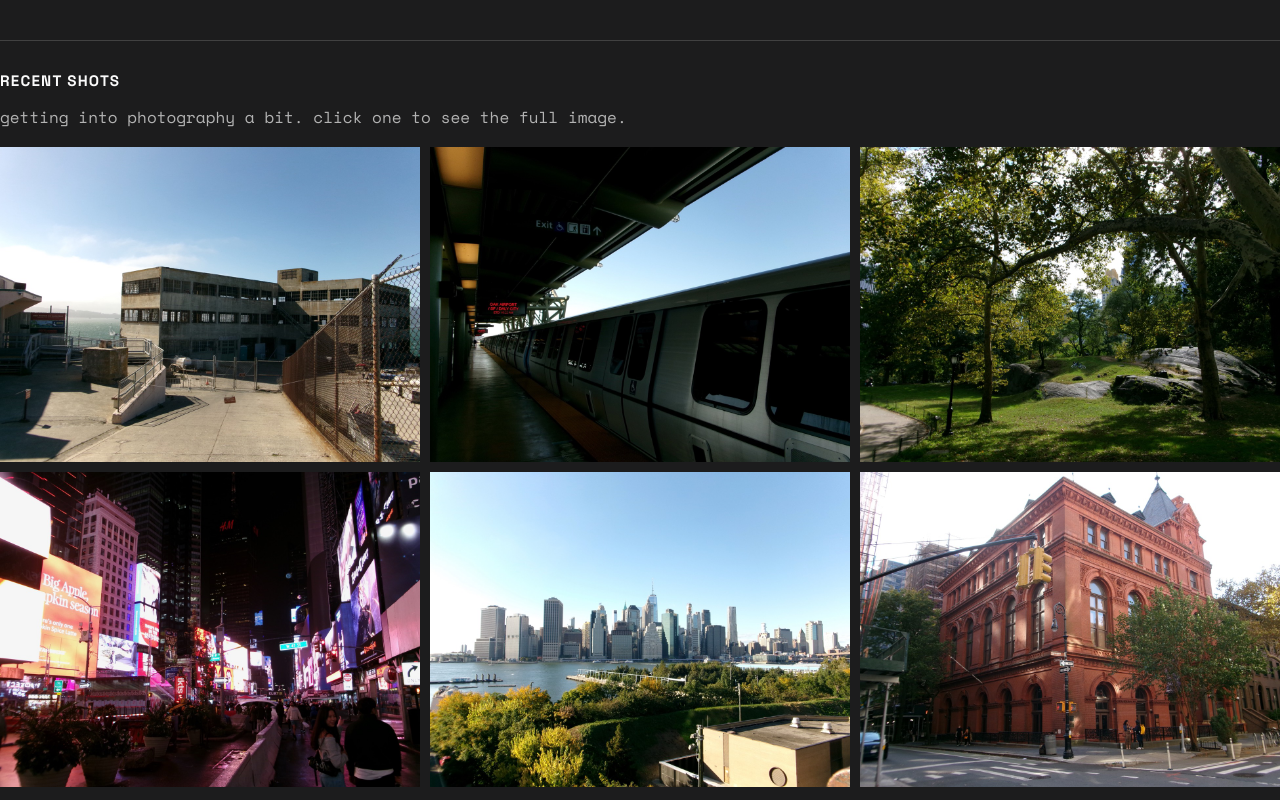
it: Photos › shows a location-only caption and closes from the x
Step 1. Click the 1st button named "An abandoned concrete building behind a chain-link fence on Alcatraz Island" → (210, 304), box [0, 147, 420, 462]
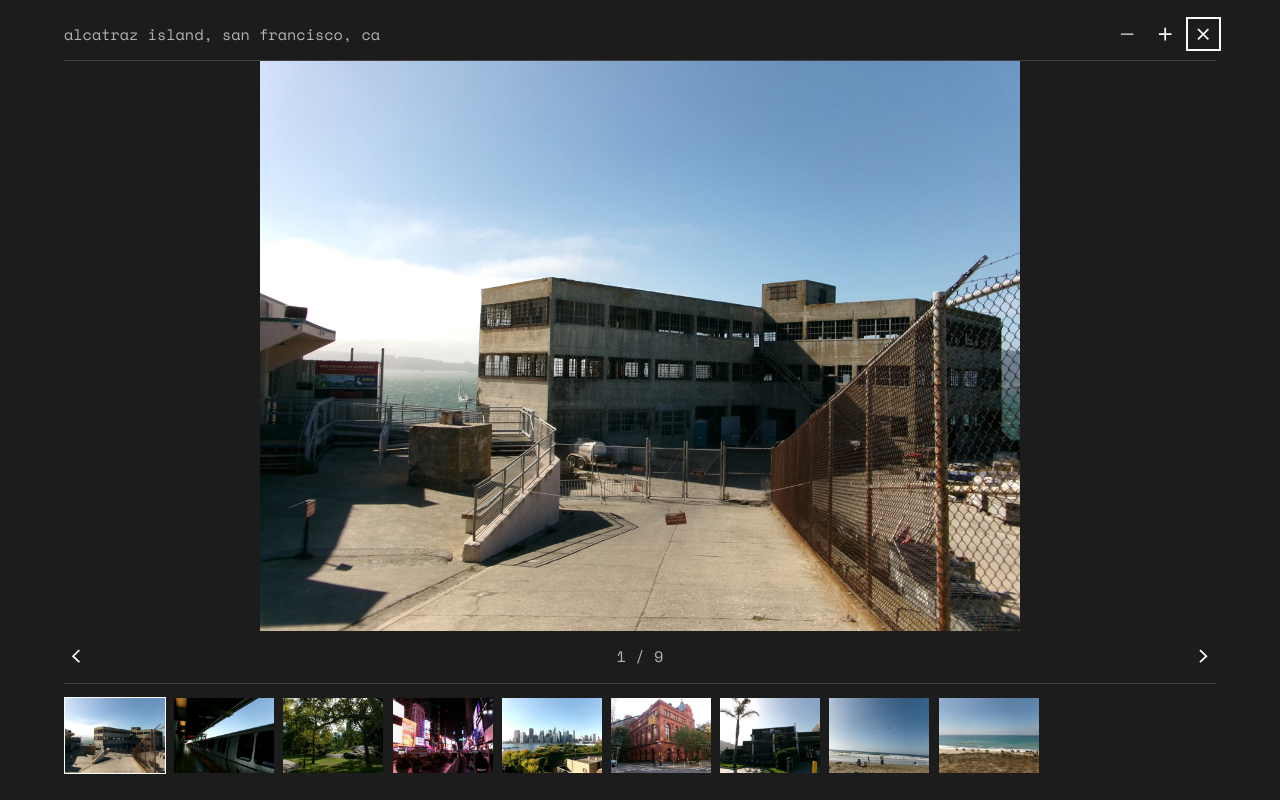
Step 2. Click the button named "close" → (1204, 34), box [1191, 22, 1216, 46]
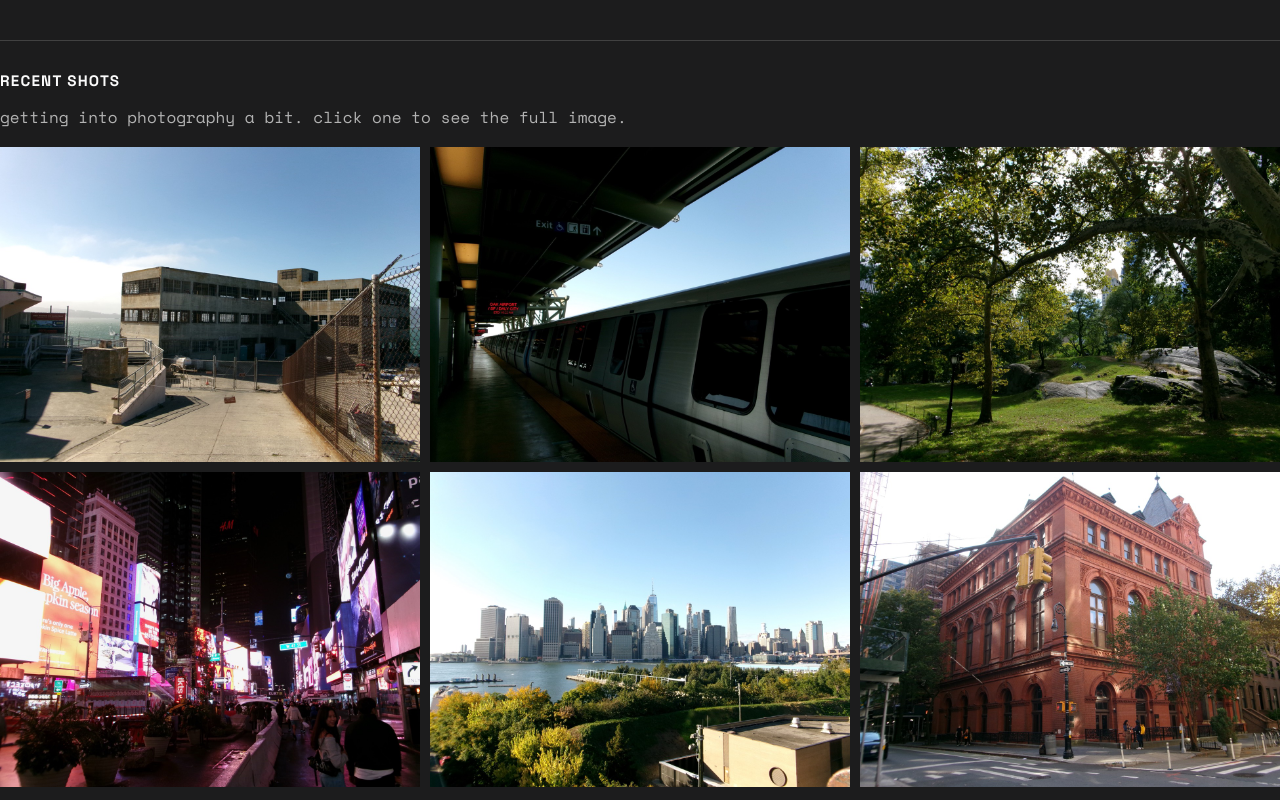
Now the dialog is gone
